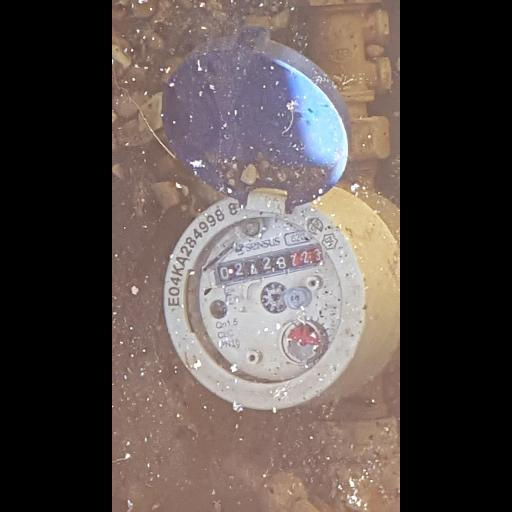0: (216, 264, 233, 285)
2: (230, 261, 249, 282), (259, 254, 276, 274), (298, 246, 314, 266)
3: (310, 244, 325, 264)
4: (244, 257, 262, 278)
7: (287, 249, 302, 269)
8: (272, 250, 291, 272)
border_water_meter_number: (212, 240, 327, 288)
